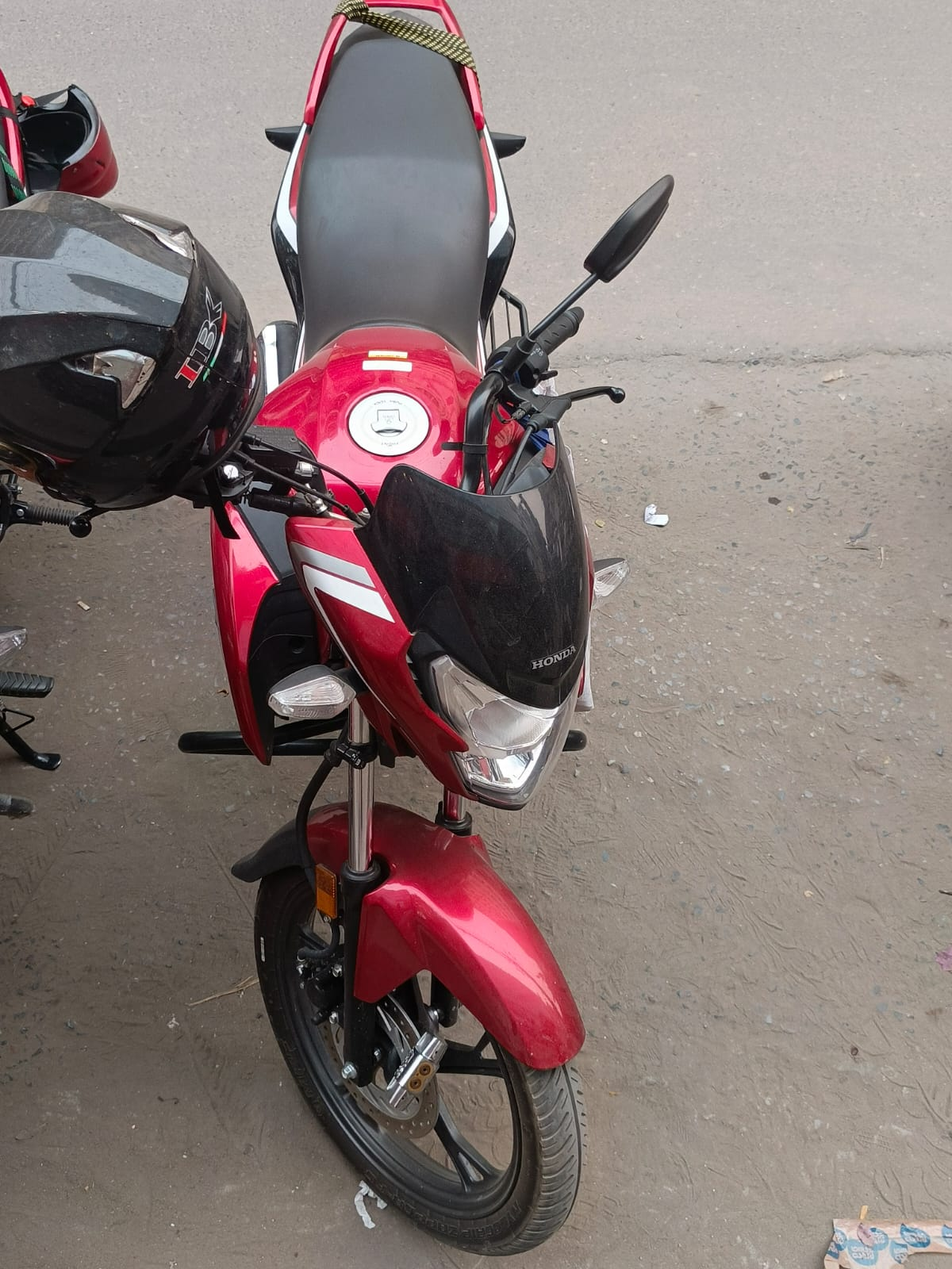Bikes: (212, 0, 726, 1269), (11, 22, 315, 1033)
